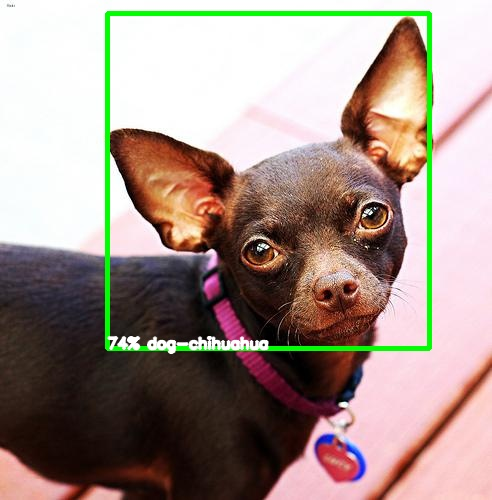dog-chihuahua: (106, 17, 433, 341)
